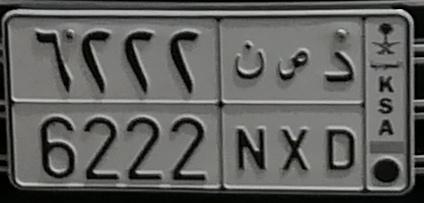2: (123, 29, 164, 182), (81, 28, 121, 181), (168, 29, 208, 182)
6: (34, 27, 77, 179)
D: (324, 51, 356, 171)
N: (234, 40, 269, 172)
X: (276, 48, 311, 174)
